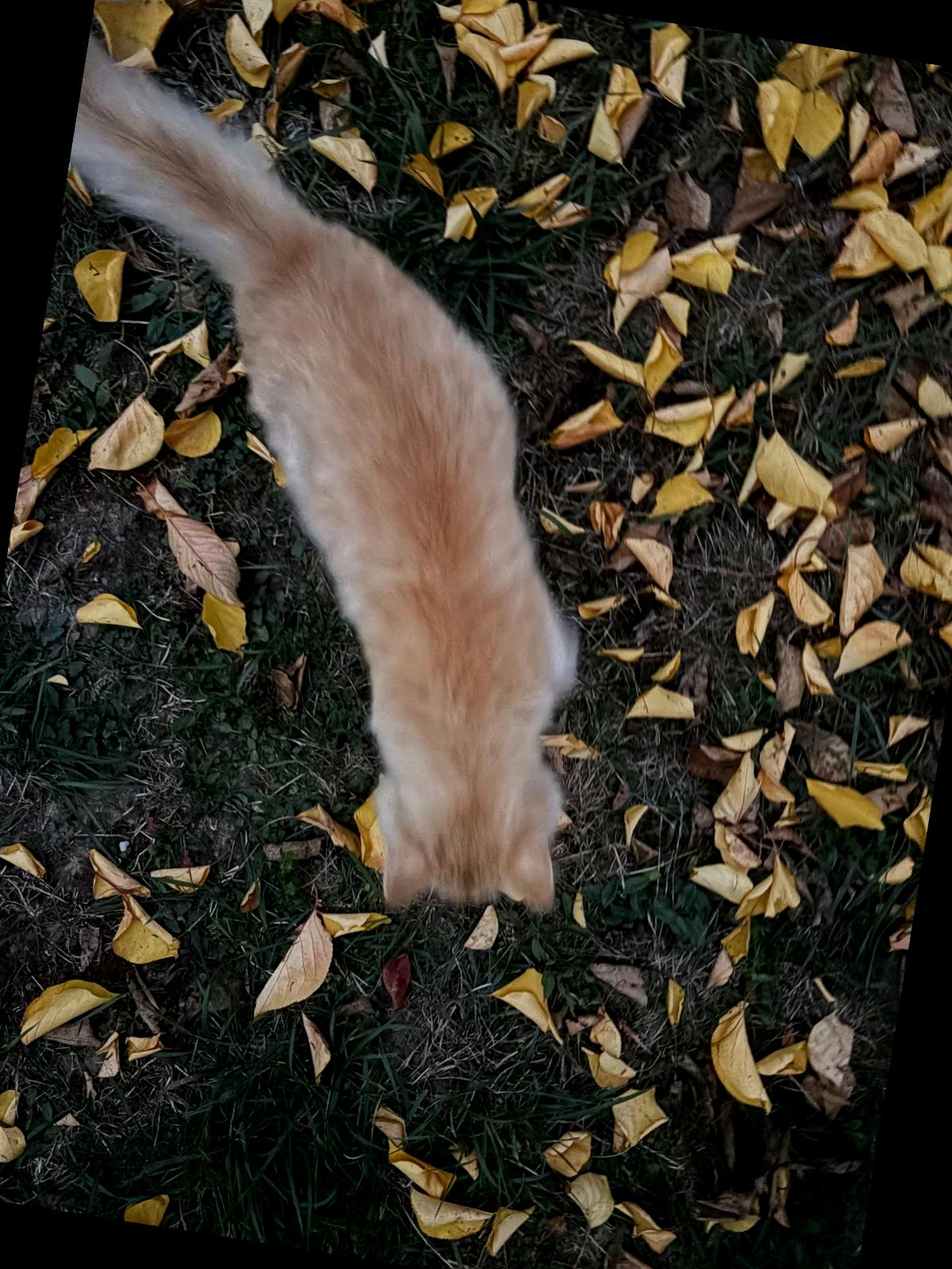macka: (0, 53, 673, 933)
